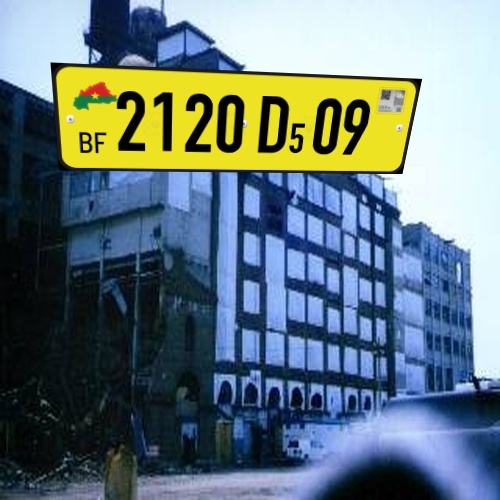plate: (42, 55, 436, 204)
